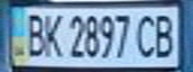2: (63, 10, 84, 58)
7: (112, 11, 136, 58)
8: (81, 11, 100, 58)
9: (100, 11, 118, 58)
B: (21, 9, 48, 57), (151, 11, 178, 58)
C: (133, 11, 160, 58)
K: (39, 10, 66, 58)
